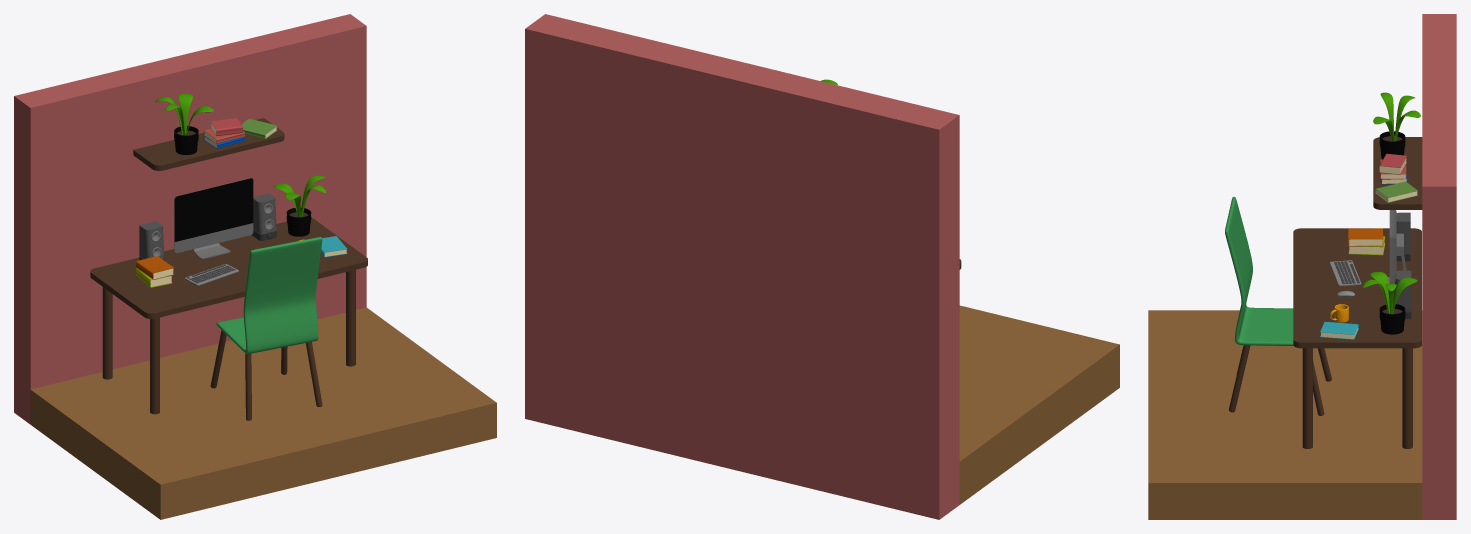
The model's file is desk.glb.
3 renders of one model, left to right at view 1: azimuth 30°, elevation 25°; view 2: azimuth 150°, elevation 25°; view 3: azimuth 270°, elevation 25°, orthographic. The views are drawn at different scales.
Visible parts, largest first — view 1: Cube.001, Cube, Plane, Cylinder.001, Plane.001, Plane.002, Cylinder.003, Cylinder, Cube.006, Cube.007, Cube.002, Plane.003; view 2: Cube.001, Cube; view 3: Cube, Cube.001, Plane, Cylinder.001, Plane.002, Cylinder, Cylinder.003, Plane.001, Cube.002, Cube.011, Plane.003, Cube.004 (+3 smaller).
Part boxes in pixels (left/top/right/bottom): Cube.001: left=14, top=14, right=366, bottom=424; Cube: left=30, top=307, right=496, bottom=519; Plane: left=90, top=217, right=367, bottom=414; Cylinder.001: left=210, top=237, right=322, bottom=420; Plane.001: left=174, top=178, right=253, bottom=259; Plane.002: left=133, top=118, right=284, bottom=170; Cylinder.003: left=155, top=93, right=213, bottom=154; Cylinder: left=273, top=175, right=326, bottom=236; Cube.006: left=252, top=193, right=276, bottom=240; Cube.007: left=139, top=221, right=164, bottom=260; Cube.002: left=136, top=256, right=174, bottom=279; Plane.003: left=185, top=264, right=238, bottom=285; Cube.001: left=525, top=14, right=959, bottom=519; Cube: left=959, top=305, right=1119, bottom=504; Cube: left=1148, top=310, right=1422, bottom=519; Cube.001: left=1422, top=14, right=1456, bottom=519; Plane: left=1293, top=228, right=1421, bottom=448; Cylinder.001: left=1225, top=196, right=1331, bottom=415; Plane.002: left=1373, top=137, right=1422, bottom=209; Cylinder: left=1363, top=271, right=1417, bottom=334; Cylinder.003: left=1373, top=92, right=1420, bottom=159; Plane.001: left=1387, top=210, right=1406, bottom=283; Cube.002: left=1348, top=228, right=1383, bottom=246; Cube.011: left=1375, top=181, right=1417, bottom=202; Plane.003: left=1330, top=260, right=1361, bottom=286; Cube.004: left=1320, top=321, right=1358, bottom=339.
Size of the model in its own units: 1 by 0.9 by 0.7549.
